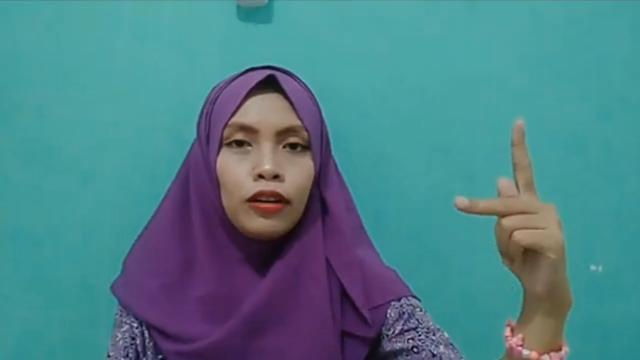K: (452, 118, 572, 302)
